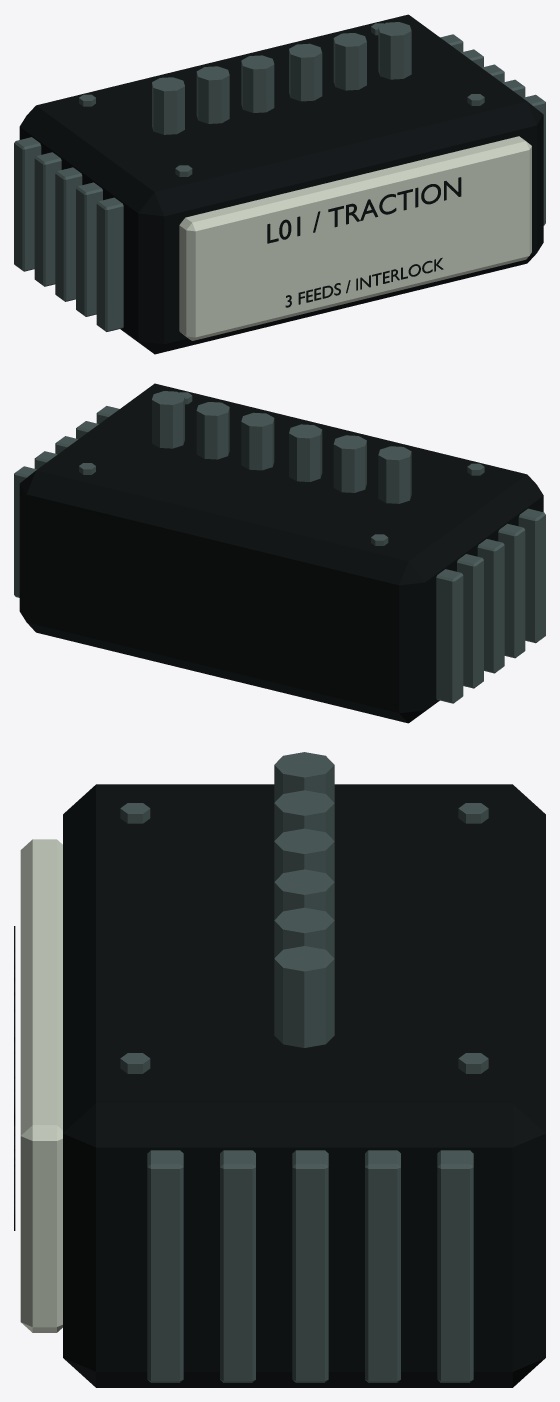
The model's file is SM_MP_Station_PowerBox.fbx.
3 renders of one model, top to bottom at view 1: azimuth 30°, elevation 25°; view 2: azimuth 150°, elevation 25°; view 3: azimuth 270°, elevation 25°, orthographic. The views are drawn at different scales.
Parts seen in each view (by area): view 1: SM_MP_Station_PowerBox; view 2: SM_MP_Station_PowerBox; view 3: SM_MP_Station_PowerBox.
Part boxes in pixels (box(x1,y1,x2,y2)): SM_MP_Station_PowerBox: box(14, 14, 545, 354); SM_MP_Station_PowerBox: box(14, 383, 545, 723); SM_MP_Station_PowerBox: box(14, 752, 545, 1387).
Size of the model in its own units: 148 by 88.1 by 67.
Materials: 1 (1 with a texture image).
